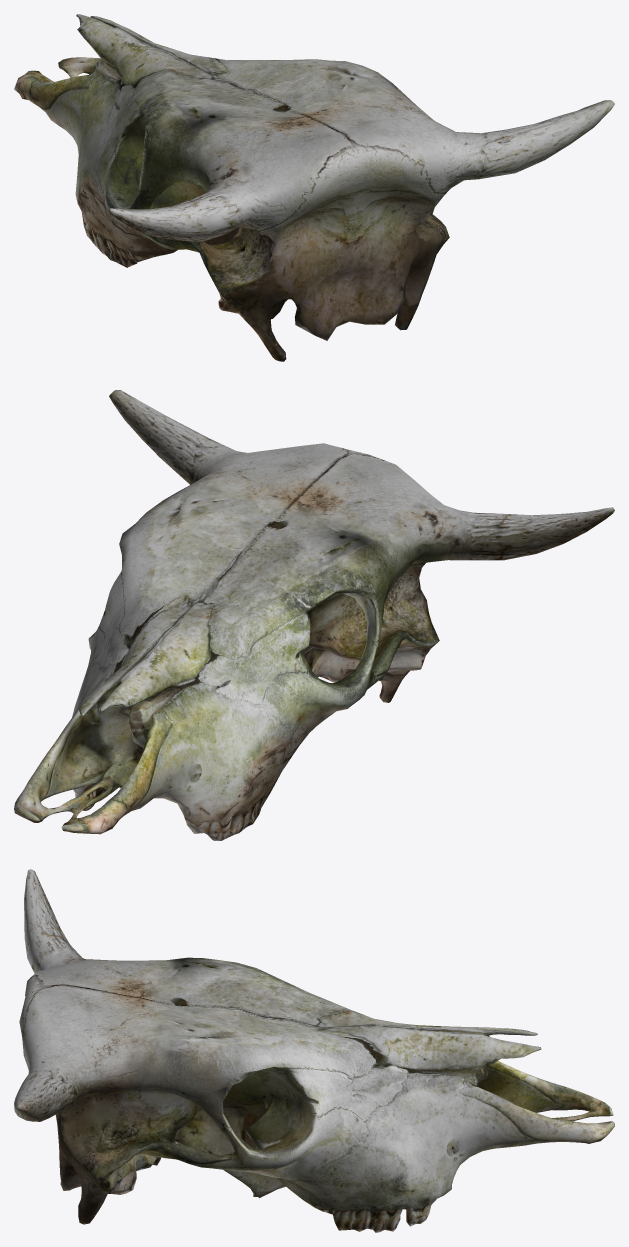
Rendered from SM_SkullCow_01_01.fbx.
The picture shows the model from 3 angles, top to bottom: view 1: azimuth 30°, elevation 25°; view 2: azimuth 150°, elevation 25°; view 3: azimuth 270°, elevation 25°; orthographic projection. The views are drawn at different scales.
Parts seen in each view (by area): view 1: sm_SkullCow_01_01_LOD0; view 2: sm_SkullCow_01_01_LOD0; view 3: sm_SkullCow_01_01_LOD0.
Boxes of the visible parts, <box> form: sm_SkullCow_01_01_LOD0: <box>14,14,614,361</box>; sm_SkullCow_01_01_LOD0: <box>14,390,614,840</box>; sm_SkullCow_01_01_LOD0: <box>14,869,614,1232</box>.
Size of the model in its own units: 68.04 by 61.73 by 27.02.
